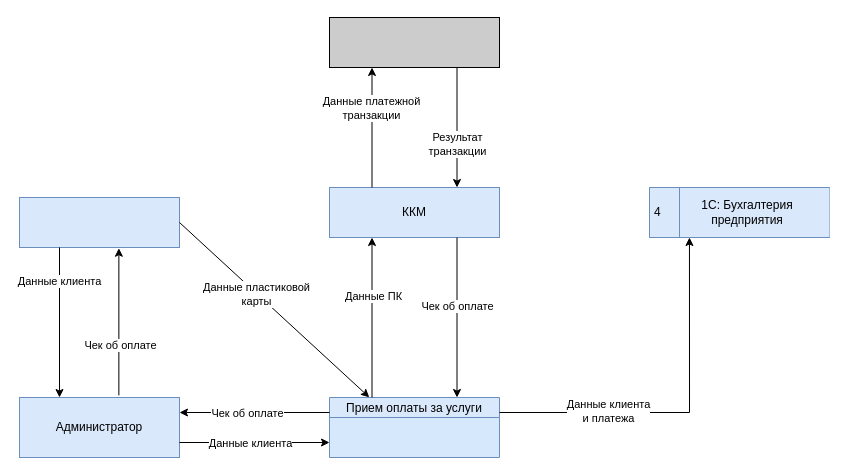
This 847x475 diagram has some shape labels left out. Each missing label, with the box of its shape:
Пациент: (18, 196, 180, 248)
Процессинговый центр: (328, 16, 500, 68)
